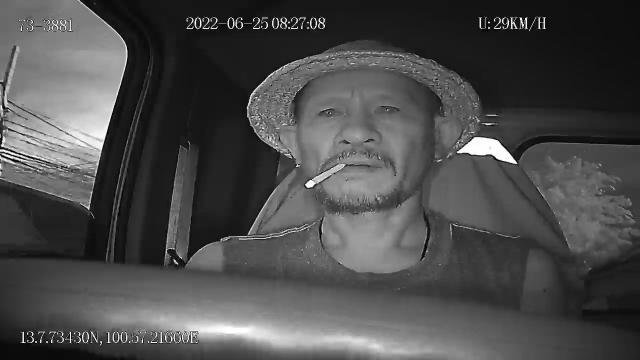SafeDriving: (368, 94, 407, 120), (312, 98, 348, 122)
Smoking: (304, 162, 350, 190)
